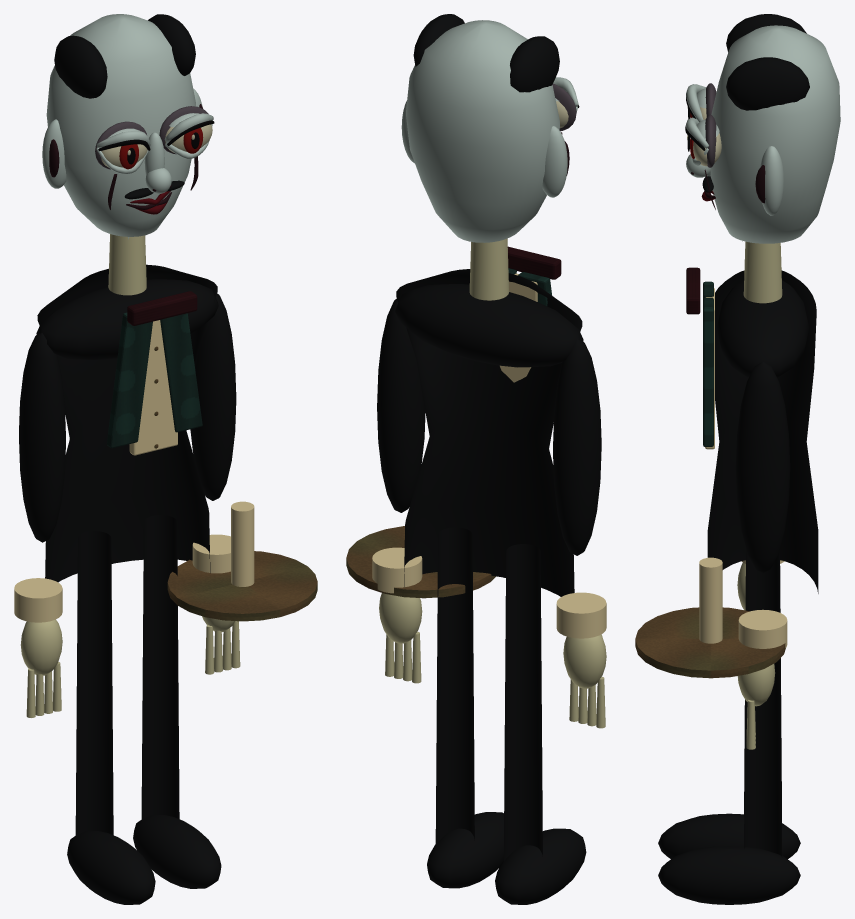
File: butler.glb
The picture shows the model from 3 angles, left to right: view 1: azimuth 30°, elevation 25°; view 2: azimuth 150°, elevation 25°; view 3: azimuth 270°, elevation 25°; orthographic projection. The views are drawn at different scales.
Parts seen in each view (by area): view 1: Butler_Skullskin.001, Butler_Coat.001, Butler_Leg-1.001, Butler_Leg1.001, Butler_Sleeve-1.001, Butler_Tray.001, Butler_Shoulders.001, Butler_Sleeve1.001, Butler_Shoe-1.001, Butler_Shoe1.001, Butler_Lapel-1.001, Butler_Lapel1.001 (+14 smaller); view 2: Butler_Coat.001, Butler_Skullskin.001, Butler_Leg-1.001, Butler_Leg1.001, Butler_Shoulders.001, Butler_Sleeve-1.001, Butler_Sleeve1.001, Butler_Shoe-1.001, Butler_Shoe1.001, Butler_Tray.001, Butler_SkullHair-1.001, Butler_Neck.001 (+7 smaller); view 3: Butler_Skullskin.001, Butler_Coat.001, Butler_Sleeve1.001, Butler_Leg1.001, Butler_Tray.001, Butler_Shoe1.001, Butler_Shoulders.001, Butler_SkullHair1.001, Butler_Shoe-1.001, Butler_Neck.001, Butler_Candle.001, Butler_Cuff1.001 (+6 smaller).
Boxes of the visible parts, bbox=[...] form: Butler_Skullskin.001: bbox=[42, 14, 213, 239]; Butler_Coat.001: bbox=[37, 264, 217, 582]; Butler_Leg-1.001: bbox=[75, 531, 113, 839]; Butler_Leg1.001: bbox=[141, 515, 179, 822]; Butler_Sleeve-1.001: bbox=[19, 332, 65, 542]; Butler_Tray.001: bbox=[167, 551, 317, 621]; Butler_Shoulders.001: bbox=[36, 279, 218, 359]; Butler_Sleeve1.001: bbox=[190, 293, 236, 500]; Butler_Shoe-1.001: bbox=[67, 831, 155, 904]; Butler_Shoe1.001: bbox=[133, 815, 221, 888]; Butler_Lapel-1.001: bbox=[106, 312, 152, 448]; Butler_Lapel1.001: bbox=[160, 313, 202, 432]; Butler_Coat.001: bbox=[396, 269, 582, 596]; Butler_Skullskin.001: bbox=[401, 20, 578, 242]; Butler_Leg-1.001: bbox=[503, 544, 542, 862]; Butler_Leg1.001: bbox=[435, 527, 474, 845]; Butler_Shoulders.001: bbox=[395, 284, 583, 367]; Butler_Sleeve-1.001: bbox=[553, 339, 601, 555]; Butler_Sleeve1.001: bbox=[377, 298, 425, 512]; Butler_Shoe-1.001: bbox=[495, 828, 586, 904]; Butler_Shoe1.001: bbox=[427, 812, 503, 888]; Butler_Tray.001: bbox=[346, 526, 495, 598]; Butler_SkullHair-1.001: bbox=[510, 36, 559, 92]; Butler_Neck.001: bbox=[469, 238, 509, 300]; Butler_Skullskin.001: bbox=[685, 25, 840, 243]; Butler_Coat.001: bbox=[707, 270, 818, 593]; Butler_Sleeve1.001: bbox=[735, 362, 790, 572]; Butler_Leg1.001: bbox=[744, 554, 782, 857]; Butler_Tray.001: bbox=[635, 607, 785, 678]; Butler_Shoe1.001: bbox=[658, 846, 800, 904]; Butler_Shoulders.001: bbox=[717, 280, 809, 377]; Butler_SkullHair1.001: bbox=[726, 57, 809, 110]; Butler_Shoe-1.001: bbox=[658, 813, 800, 858]; Butler_Neck.001: bbox=[743, 241, 782, 303]; Butler_Candle.001: bbox=[699, 557, 722, 643]; Butler_Cuff1.001: bbox=[738, 609, 787, 648].
Bounding box in the file's own units: 3.66 × 11.26 × 2.44.
Materials: 13 (13 with a texture image).
